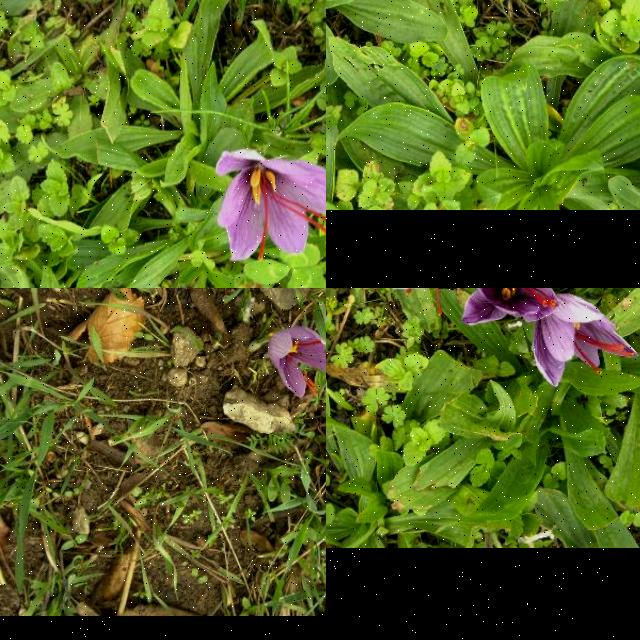flower: (216, 149, 326, 260), (535, 292, 639, 388), (266, 325, 326, 399), (461, 288, 563, 325), (353, 288, 472, 316)
